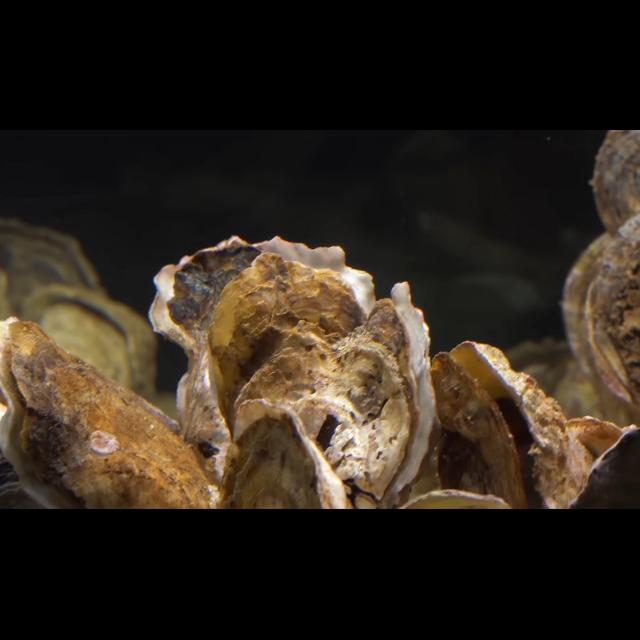Oyster-Closed: (234, 321, 413, 511), (208, 253, 366, 447), (559, 227, 640, 400), (0, 216, 108, 324), (590, 130, 640, 236)
Oyster-Open: (149, 236, 377, 488), (0, 315, 224, 511), (408, 337, 604, 511), (340, 280, 436, 512), (17, 282, 155, 400), (214, 396, 350, 510)
